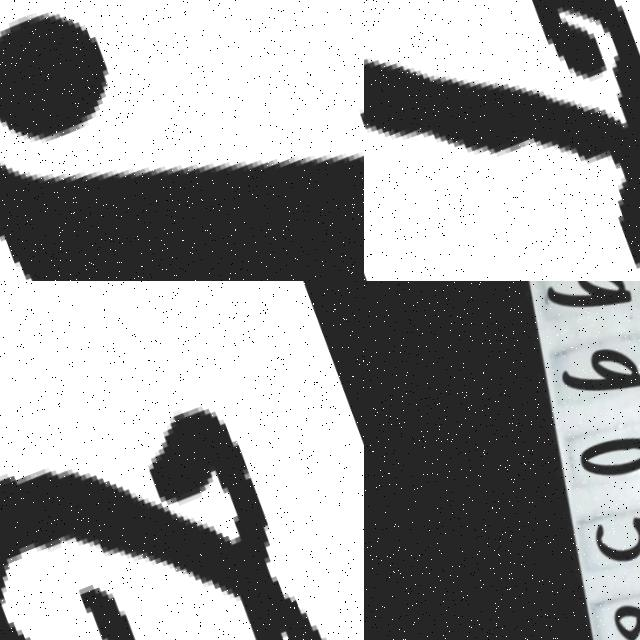0: (563, 404, 640, 500)
5: (576, 485, 640, 584)
8: (598, 572, 640, 640)
9: (542, 317, 640, 421), (528, 281, 640, 335)
G: (0, 381, 364, 640)
J: (0, 0, 364, 281)
